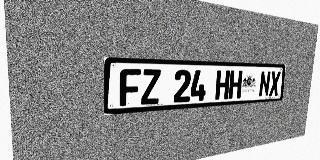2: (174, 70, 191, 103)
4: (190, 70, 207, 102)
F: (120, 69, 141, 106)
H: (215, 70, 230, 100), (228, 70, 243, 99)
N: (258, 71, 271, 97)
X: (269, 71, 281, 96)
Z: (141, 69, 161, 105)
